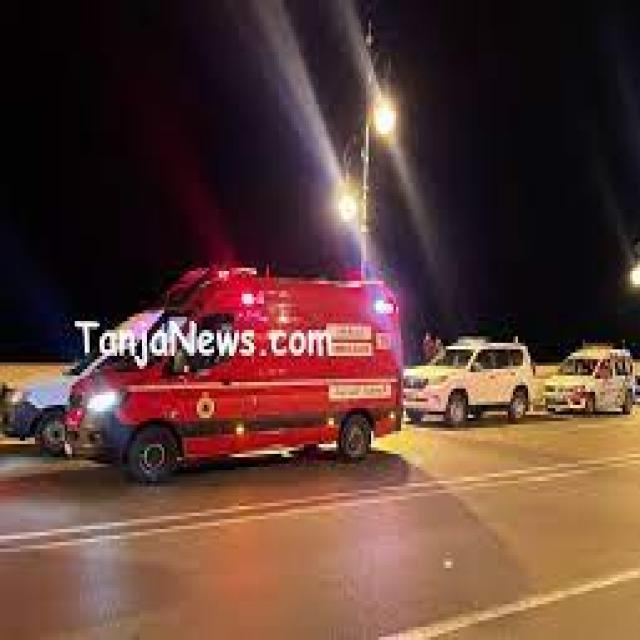ambulance: (67, 251, 402, 485)
